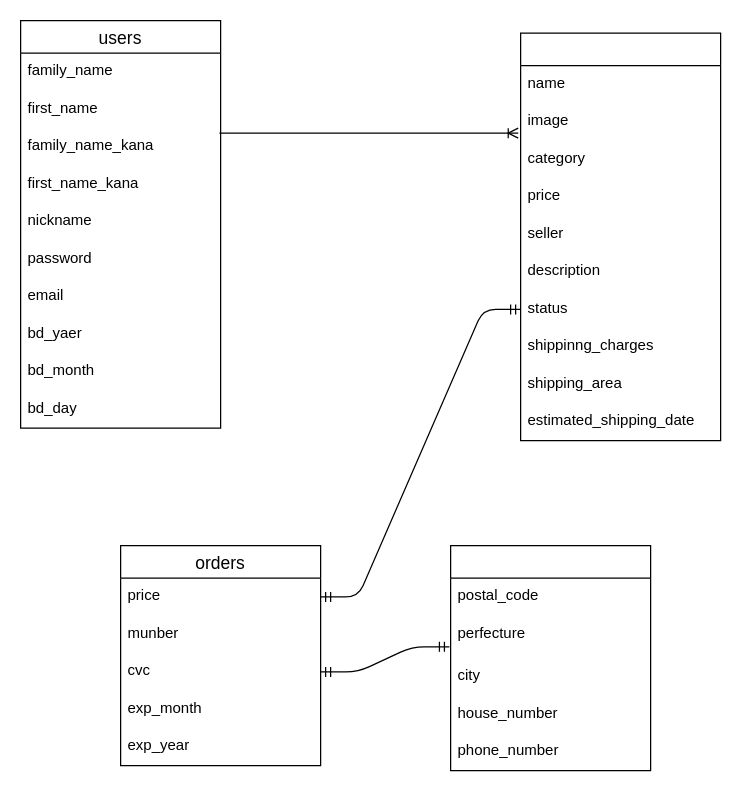
The diagram is 741 pixels wide and 791 high, and some of its shapes have lost their labels. The box of each missing label's shape, as (x1, y1, x2, y2) in pixels:
address: (449, 544, 651, 771)
items: (519, 32, 721, 441)
